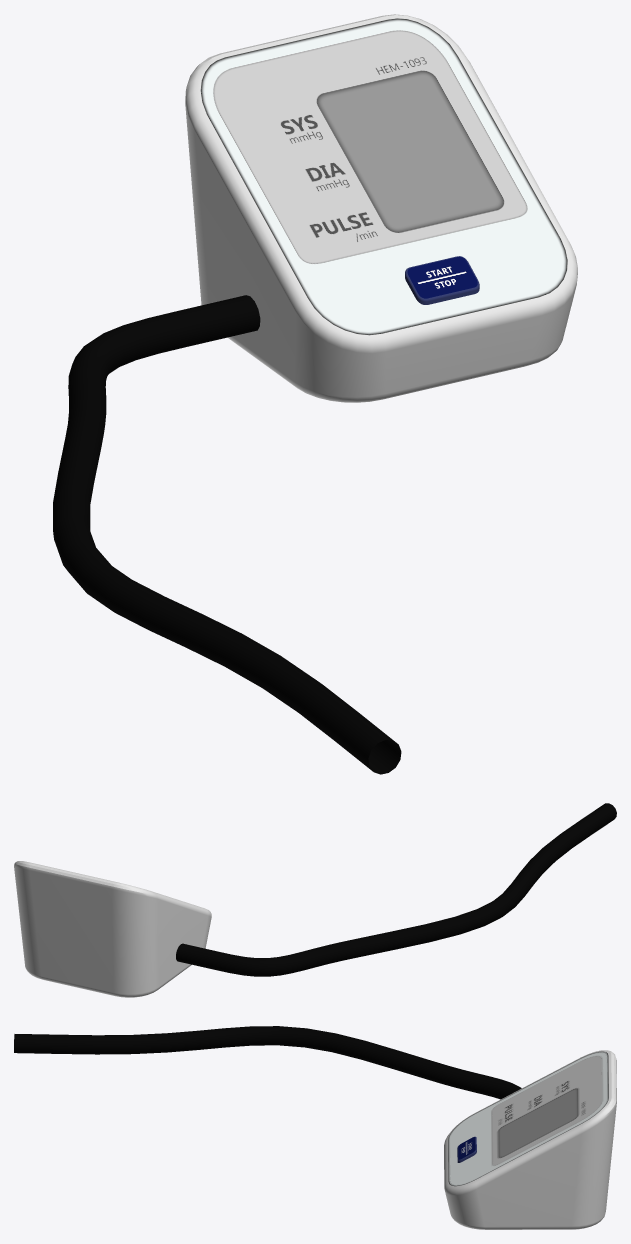
The model's file is bpmachine.glb.
The picture shows the model from 3 angles, top to bottom: view 1: azimuth 30°, elevation 25°; view 2: azimuth 150°, elevation 25°; view 3: azimuth 270°, elevation 25°; orthographic projection. The views are drawn at different scales.
Parts seen in each view (by area): view 1: BPMonitor; view 2: BPMonitor; view 3: BPMonitor.
Boxes of the visible parts, x1=… form: BPMonitor: x1=53, y1=14, x2=577, y2=774; BPMonitor: x1=14, y1=803, x2=616, y2=997; BPMonitor: x1=14, y1=1026, x2=616, y2=1229.
Size of the model in its own units: 79.74 by 26.93 by 118.
5 materials, 2 textured.
